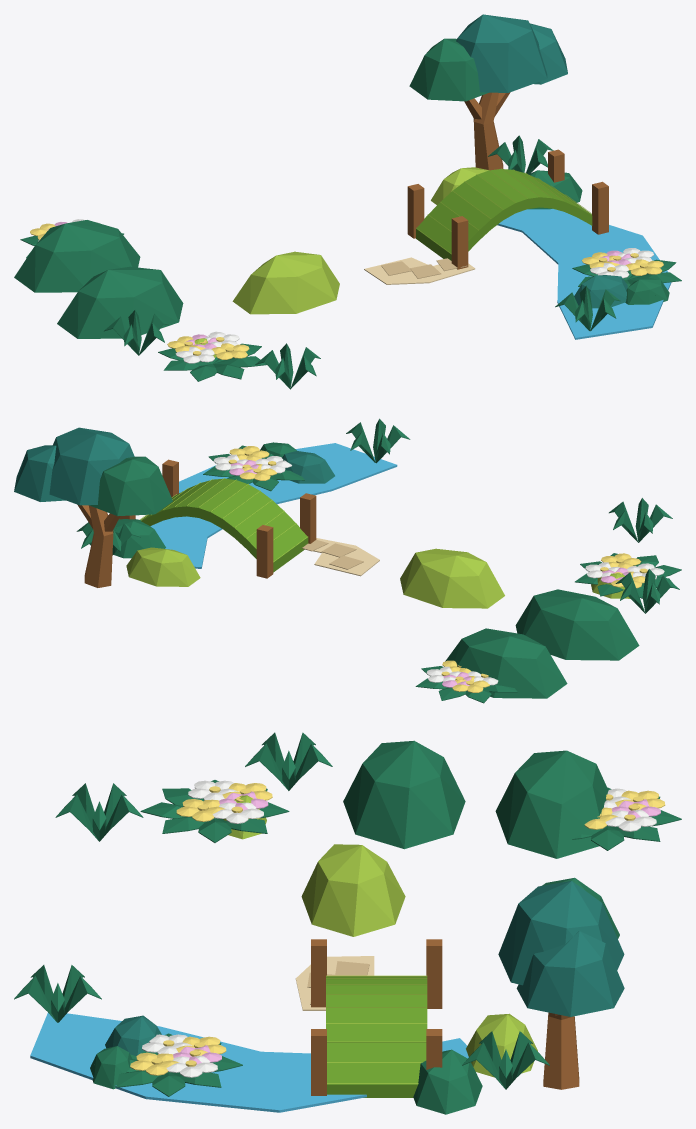
The model's file is decoration.glb.
The picture shows the model from 3 angles, top to bottom: view 1: azimuth 30°, elevation 25°; view 2: azimuth 150°, elevation 25°; view 3: azimuth 270°, elevation 25°; orthographic projection. The views are drawn at different scales.
Parts seen in each view (by area): view 1: Decor_Cottage_Garden, Decor_Cottage_SideTree, Decor_Cottage_GrassBridge, Decor_Cottage_Stream; view 2: Decor_Cottage_Garden, Decor_Cottage_SideTree, Decor_Cottage_GrassBridge, Decor_Cottage_Stream; view 3: Decor_Cottage_Garden, Decor_Cottage_GrassBridge, Decor_Cottage_SideTree, Decor_Cottage_Stream.
Part boxes in pixels (left/top/right/bottom): Decor_Cottage_Garden: left=14, top=135, right=681, bottom=389; Decor_Cottage_SideTree: left=409, top=14, right=567, bottom=170; Decor_Cottage_GrassBridge: left=407, top=149, right=608, bottom=269; Decor_Cottage_Stream: left=497, top=209, right=671, bottom=339; Decor_Cottage_Garden: left=76, top=418, right=681, bottom=703; Decor_Cottage_SideTree: left=14, top=427, right=172, bottom=587; Decor_Cottage_GrassBridge: left=119, top=459, right=316, bottom=578; Decor_Cottage_Stream: left=150, top=443, right=397, bottom=568; Decor_Cottage_Garden: left=14, top=732, right=681, bottom=1114; Decor_Cottage_GrassBridge: left=311, top=939, right=442, bottom=1097; Decor_Cottage_SideTree: left=498, top=877, right=624, bottom=1089; Decor_Cottage_Stream: left=30, top=1013, right=468, bottom=1112.
Bounding box in the file's own units: 1.84 × 0.4856 × 1.45.
